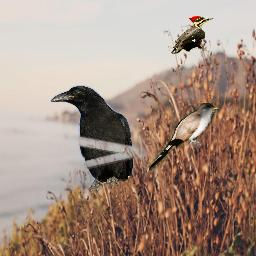Crow: (50, 85, 134, 194)
Cuckoo: (146, 103, 221, 172)
Woodpecker: (171, 16, 214, 54)
